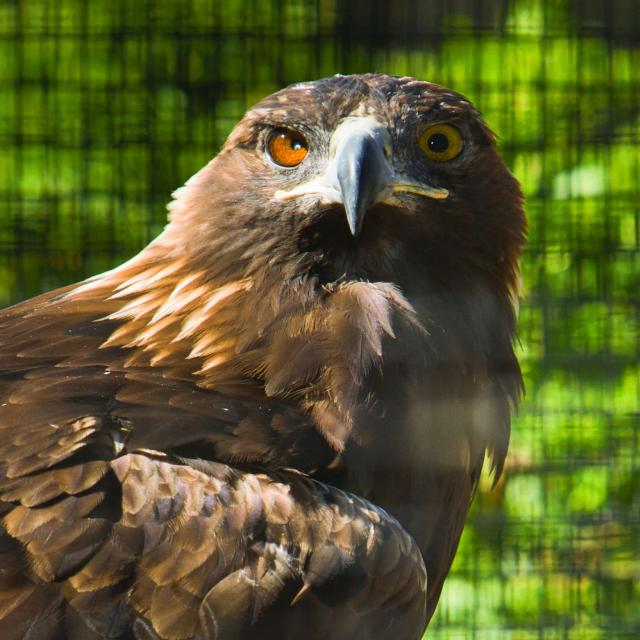Eagle: (0, 58, 545, 640)
